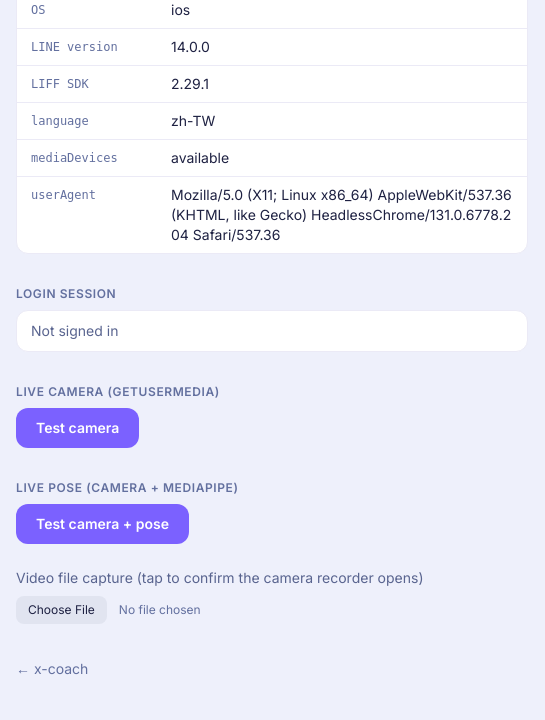
Test case: LiffDiag page › runs the camera probe and reports success
(page scrolled)
Click the button "Test camera".
click(78, 428)  # box [16, 408, 139, 448]
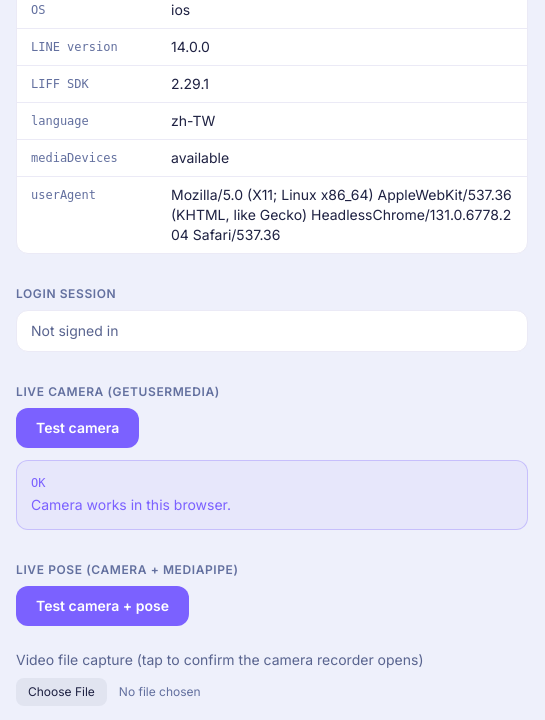
Check: the text "Camera works in this browser." is shown, box [31, 496, 231, 513]
